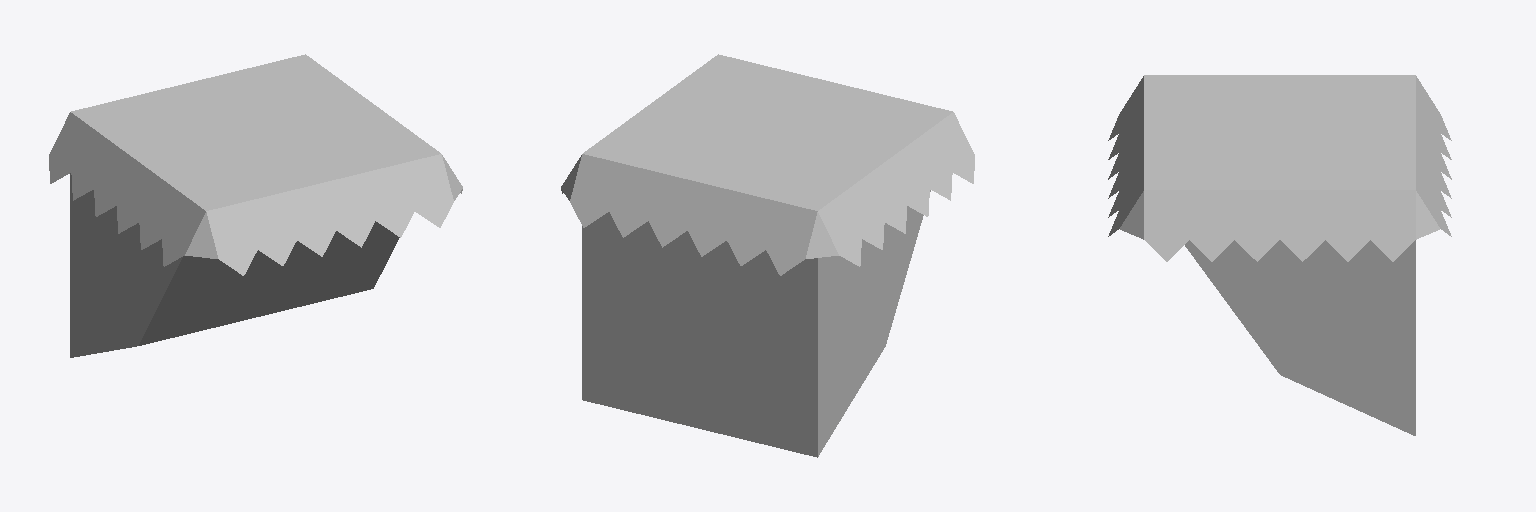
The model's file is blockCliff.obj.
3 views of the same model, side by side, from view 1: azimuth 30°, elevation 25°; view 2: azimuth 150°, elevation 25°; view 3: azimuth 270°, elevation 25° (orthographic).
Visible parts, largest first — view 1: blockCliff; view 2: blockCliff; view 3: blockCliff.
Part boxes in pixels (x1,y1,x2,y2): blockCliff: (49, 54, 462, 357); blockCliff: (561, 54, 974, 457); blockCliff: (1108, 75, 1451, 435).
Size of the model in its own units: 1.27 by 1 by 1.27.